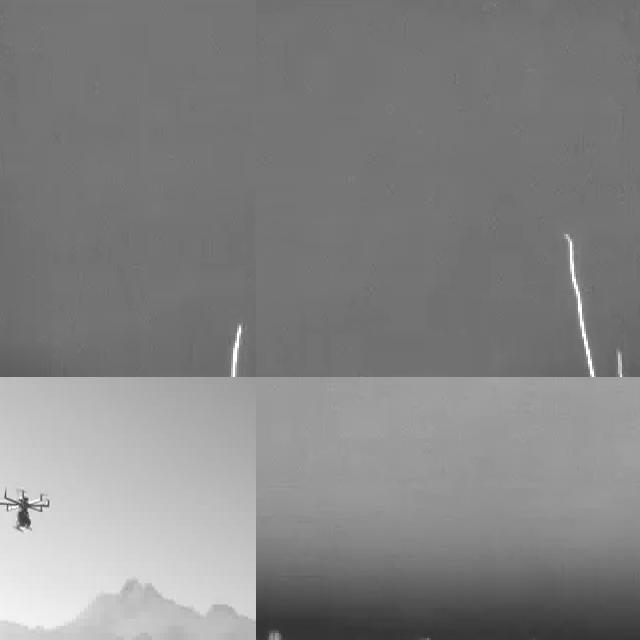0: (349, 369, 369, 377)
drone: (0, 481, 52, 538)
